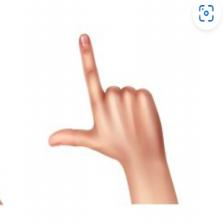five: (46, 25, 169, 168)
